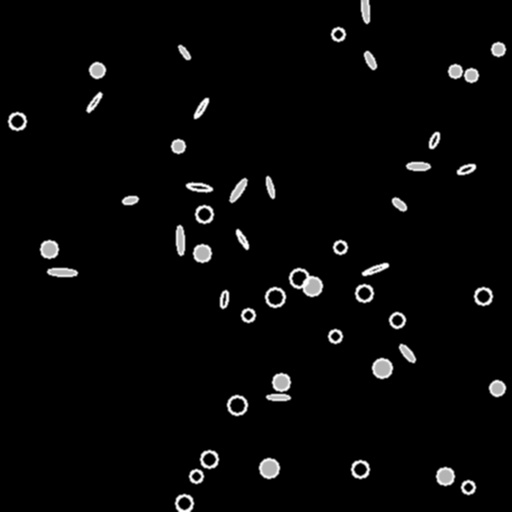pseudomonas: (228, 177, 248, 203), (85, 91, 103, 113), (361, 262, 389, 276), (398, 343, 416, 363), (193, 97, 209, 119), (362, 50, 378, 70), (235, 229, 249, 249), (186, 182, 212, 192), (391, 196, 407, 212), (176, 225, 184, 255), (47, 268, 77, 276), (360, 0, 370, 23), (177, 44, 191, 60), (428, 131, 440, 149), (457, 163, 475, 175), (265, 177, 275, 197), (406, 162, 430, 170), (220, 290, 228, 308), (267, 394, 289, 400), (122, 196, 138, 204)
synechocystis: (260, 459, 278, 477), (228, 396, 246, 414), (373, 359, 391, 377), (303, 277, 321, 295), (290, 269, 308, 287), (266, 288, 284, 306), (9, 113, 25, 129), (41, 241, 57, 257), (194, 245, 210, 261), (201, 451, 217, 467), (475, 288, 491, 304), (273, 374, 289, 390), (437, 468, 453, 484), (352, 461, 368, 477), (356, 285, 372, 301), (196, 206, 212, 222), (176, 495, 192, 511), (90, 63, 104, 77), (490, 381, 504, 395), (390, 313, 404, 327), (334, 241, 346, 253), (465, 69, 477, 81), (449, 65, 461, 77), (242, 309, 254, 321), (329, 330, 341, 342), (332, 28, 344, 40), (172, 140, 184, 152), (462, 481, 474, 493), (190, 470, 202, 482), (492, 43, 504, 55)
